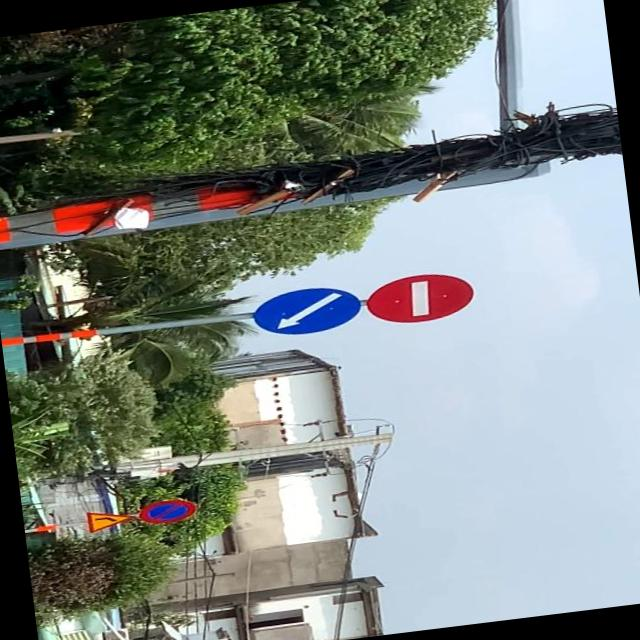P-102: (364, 270, 477, 328)
P-131a: (138, 496, 198, 530)
R-302a: (250, 280, 360, 337)
W-201b: (83, 504, 127, 532)
